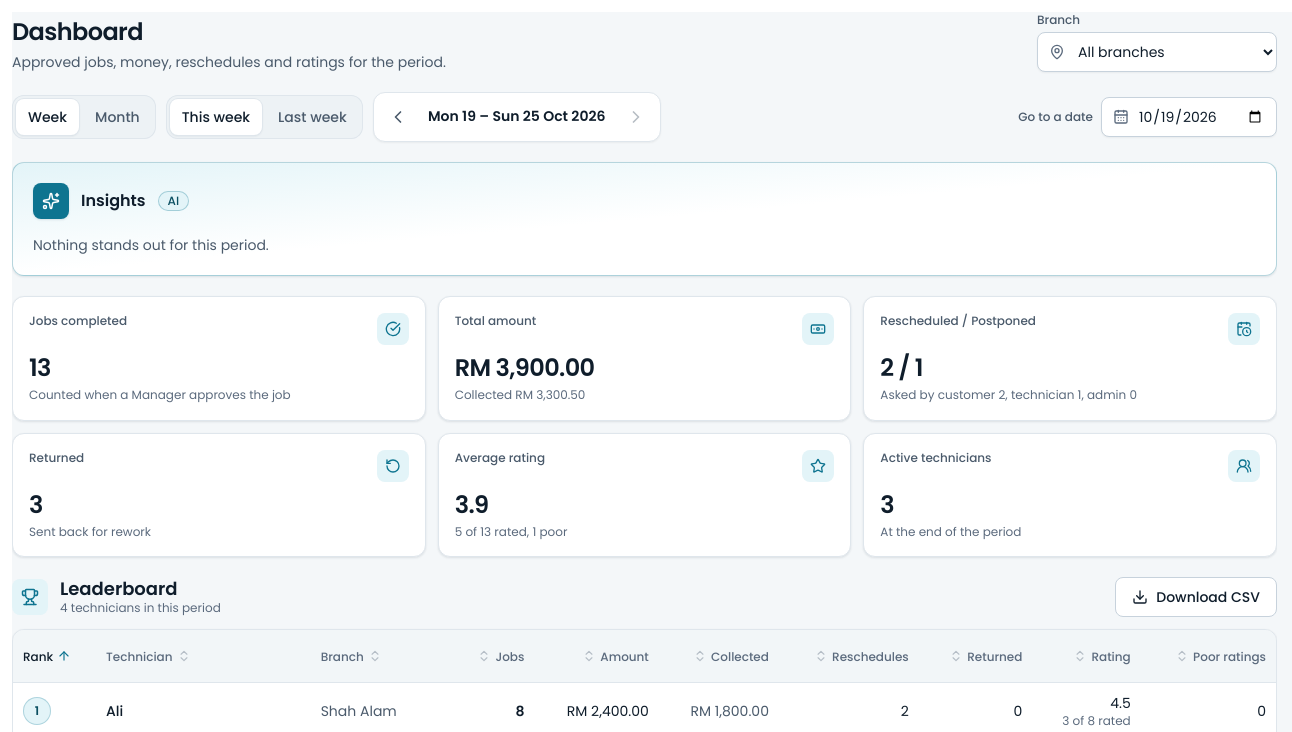
Test: Dashboard: period and address (AC8) › steps with the arrows, Last week and This week, writing each choice to the address
Expected: the element named "Summary" is shown, left=12, top=296, right=1277, bottom=557
Expected: the button named "Next week" is disabled, left=616, top=97, right=656, bottom=137
Click the button named "Previous week" at (398, 117), box left=378, top=97, right=418, bottom=137
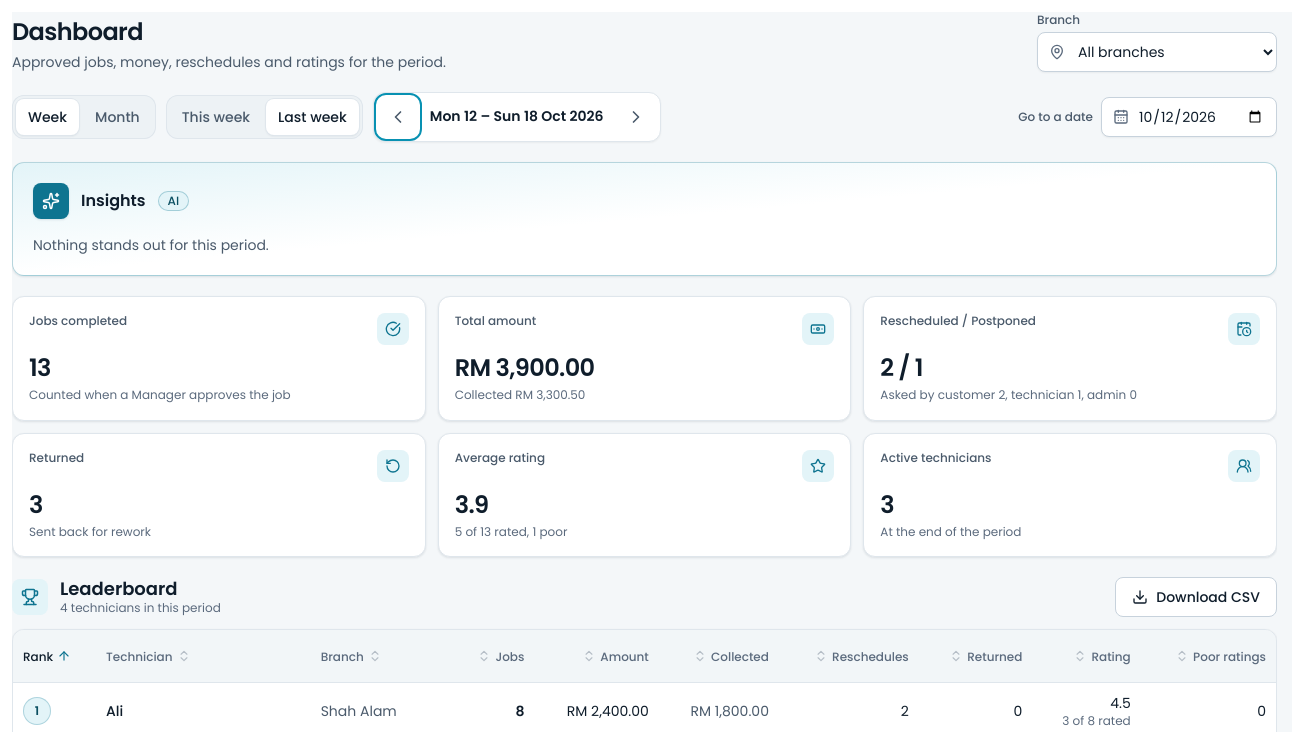
Expected: the button named "Next week" is enabled, left=616, top=97, right=656, bottom=137
Result: the text "Mon 12 – Sun 18 Oct 2026" is shown at left=422, top=108, right=612, bottom=126
Click the button named "Previous week" at (398, 117), box left=378, top=97, right=418, bottom=137
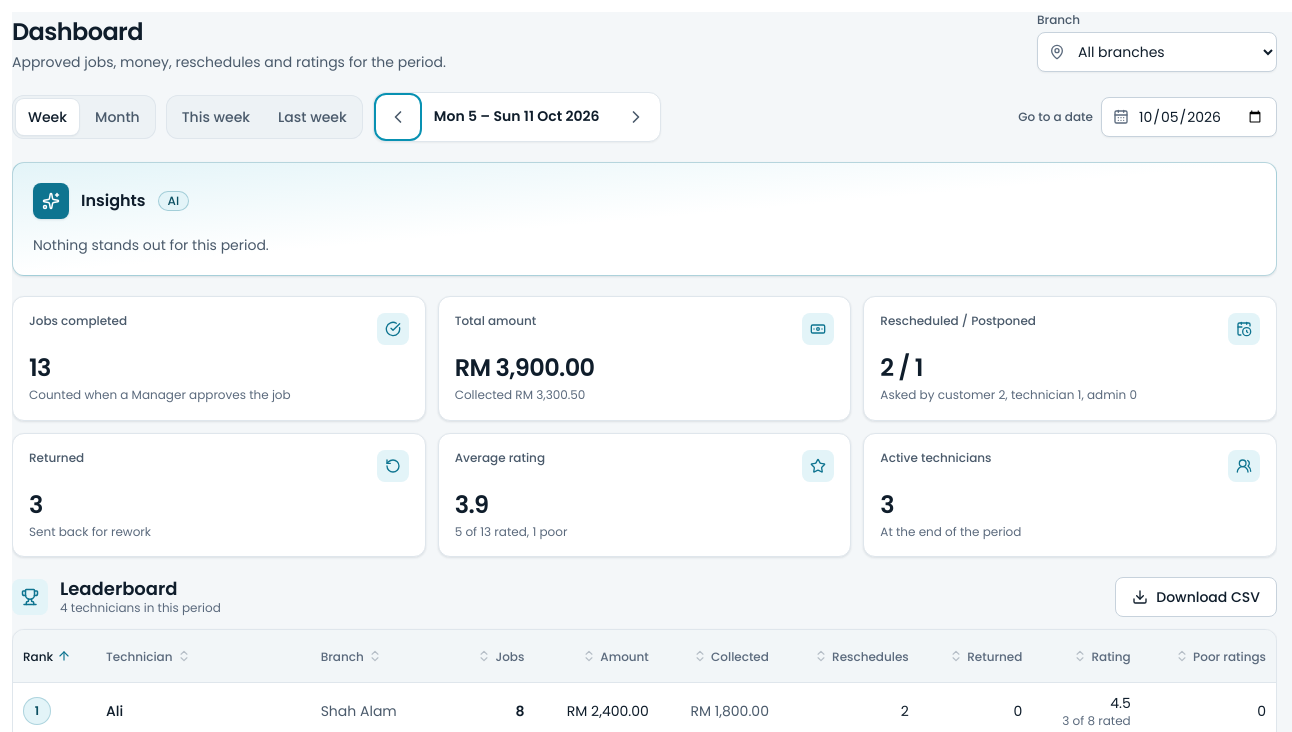
Result: the text "Mon 5 – Sun 11 Oct 2026" is shown at left=422, top=108, right=612, bottom=126
Click the button "This week" at (216, 117), box left=170, top=99, right=262, bottom=135
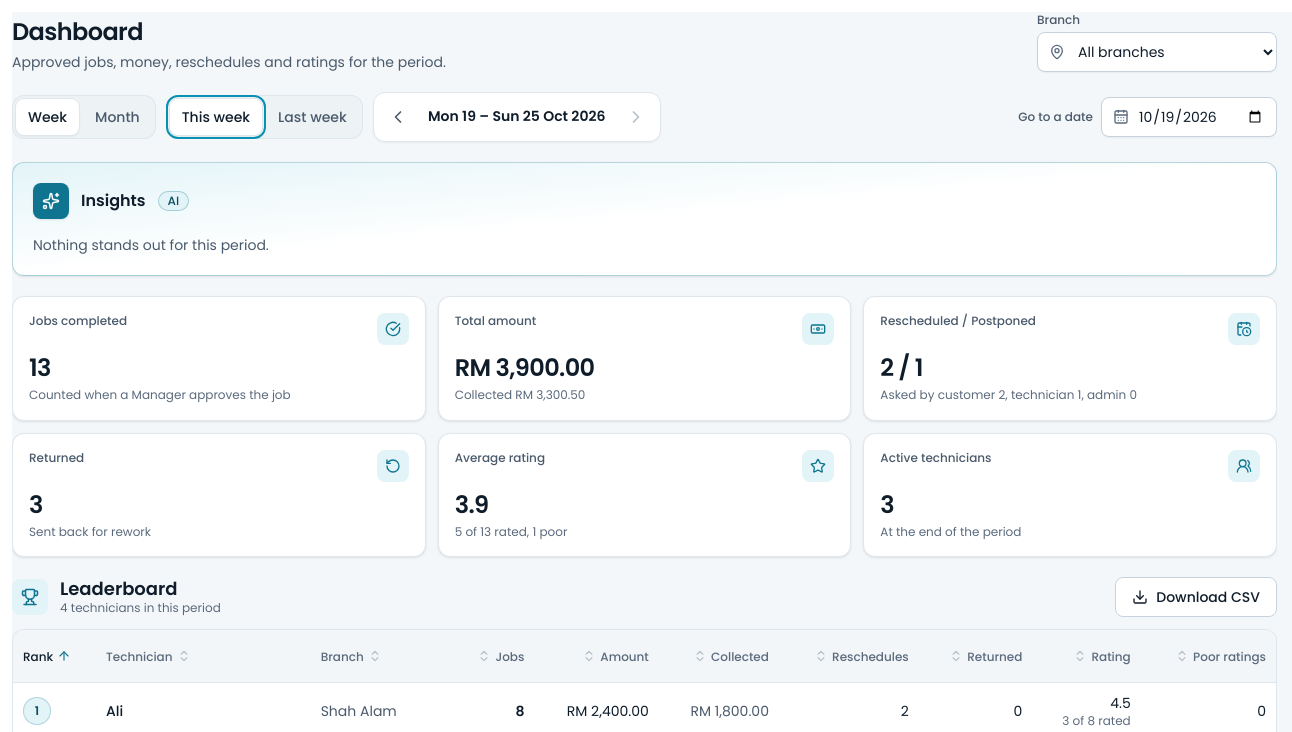
Result: the text "Mon 19 – Sun 25 Oct 2026" is shown at left=422, top=108, right=612, bottom=126
Click the button "Last week" at (312, 117), box left=266, top=99, right=359, bottom=135
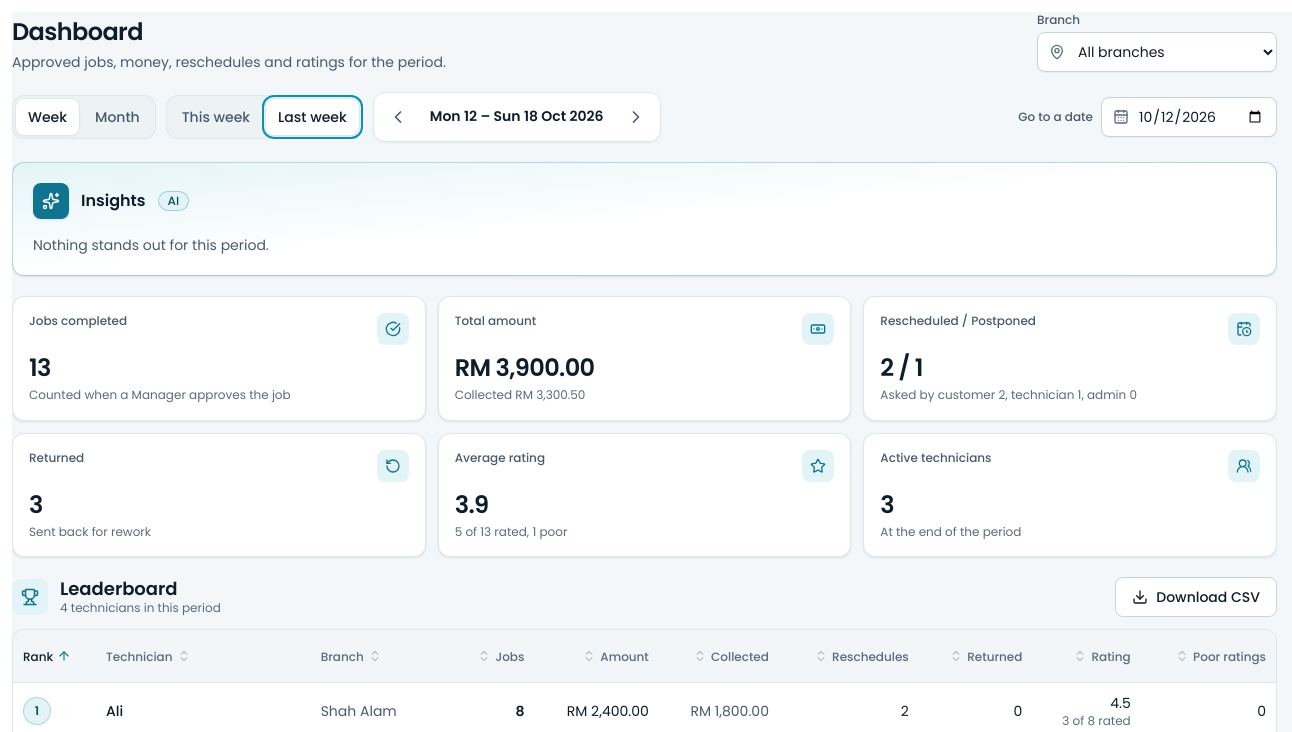
Result: the text "Mon 12 – Sun 18 Oct 2026" is shown at left=422, top=108, right=612, bottom=126
Click the button named "Next week" at (636, 117), box left=616, top=97, right=656, bottom=137
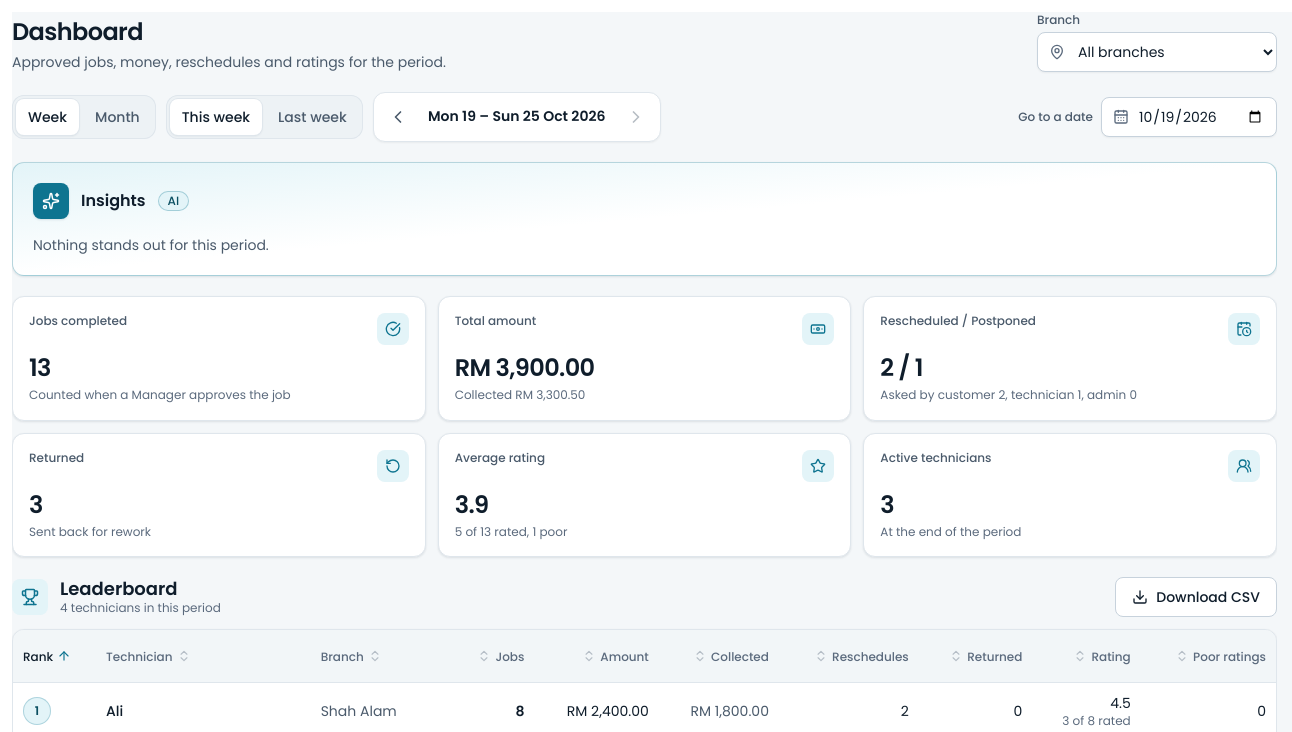
Result: the text "Mon 19 – Sun 25 Oct 2026" is shown at left=422, top=108, right=612, bottom=126
